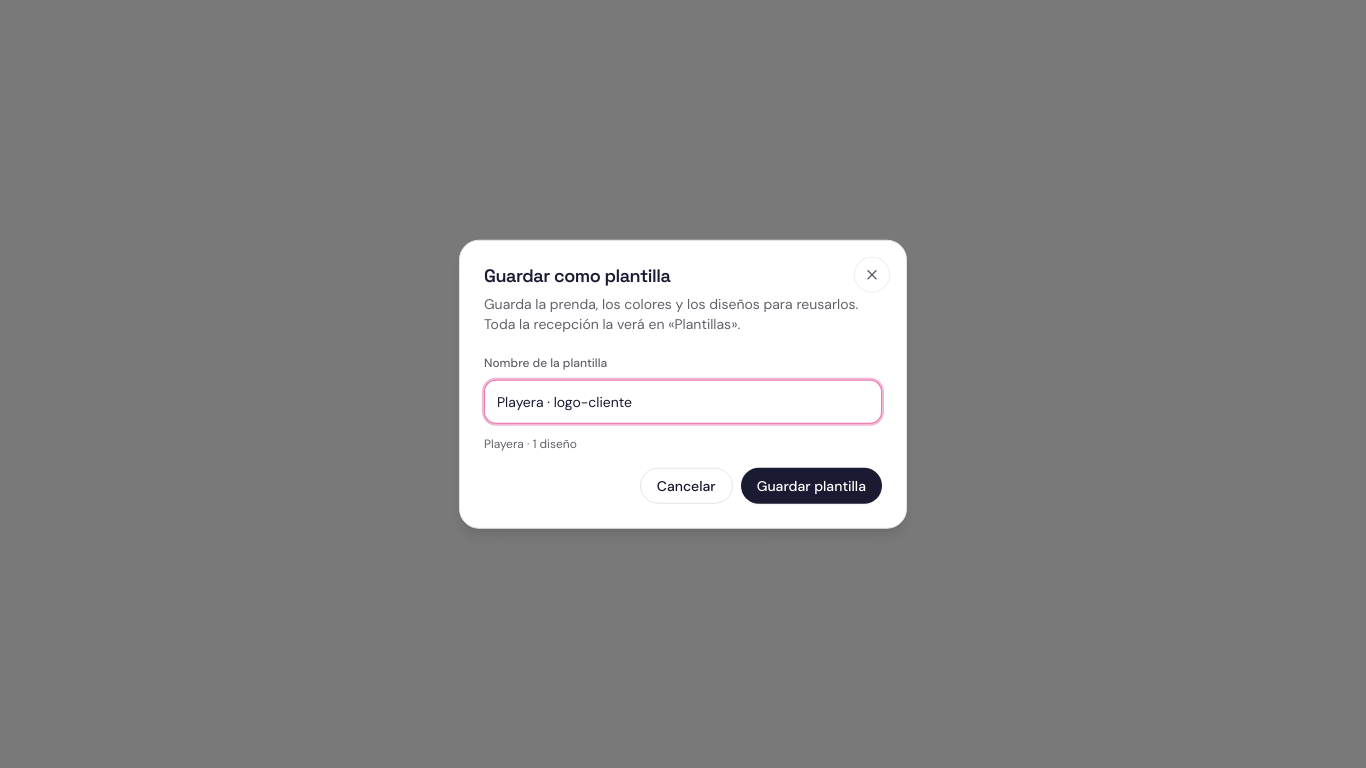
Test: SaveTemplateDialog › si la miniatura no se puede generar lo dice y no manda nada
The image size is (1366, 768).
Click the button "Guardar plantilla". click: (811, 485)
box: [741,467,882,503]
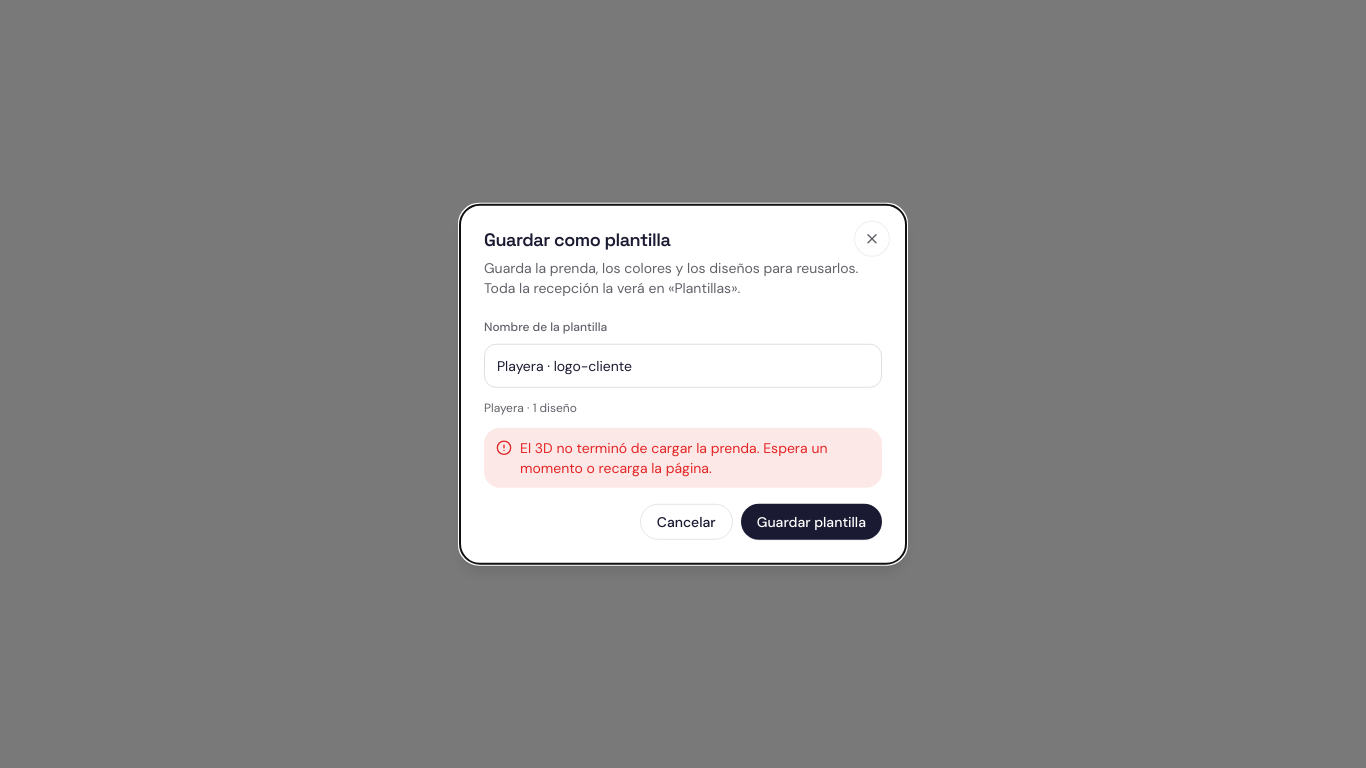
Expected: the message shows "El 3D no terminó", [520,438,828,476]
